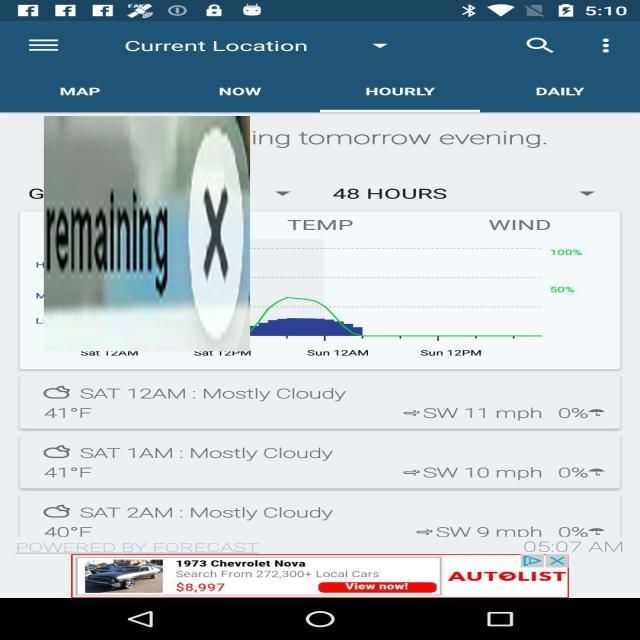misdirection: (44, 116, 250, 351)
